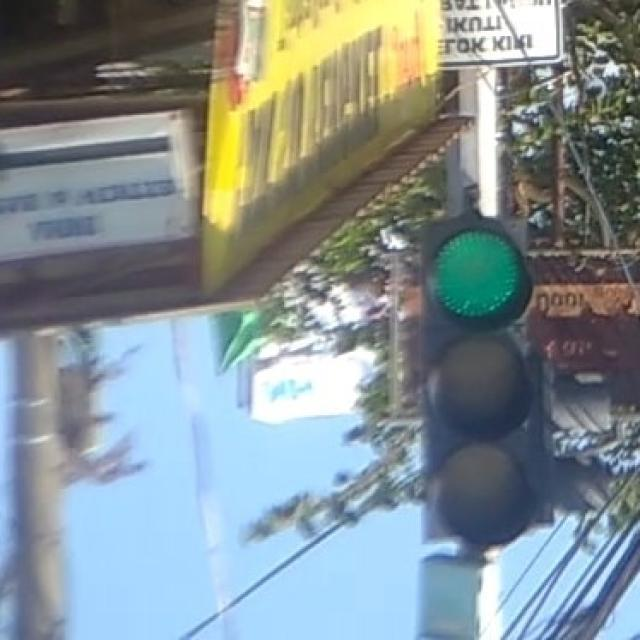green_light: (419, 212, 546, 546)
